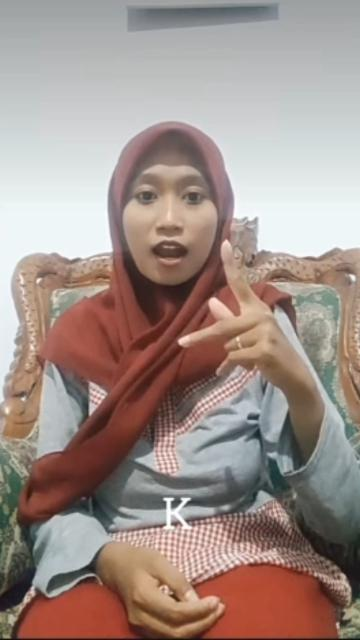K: (177, 234, 313, 402)
